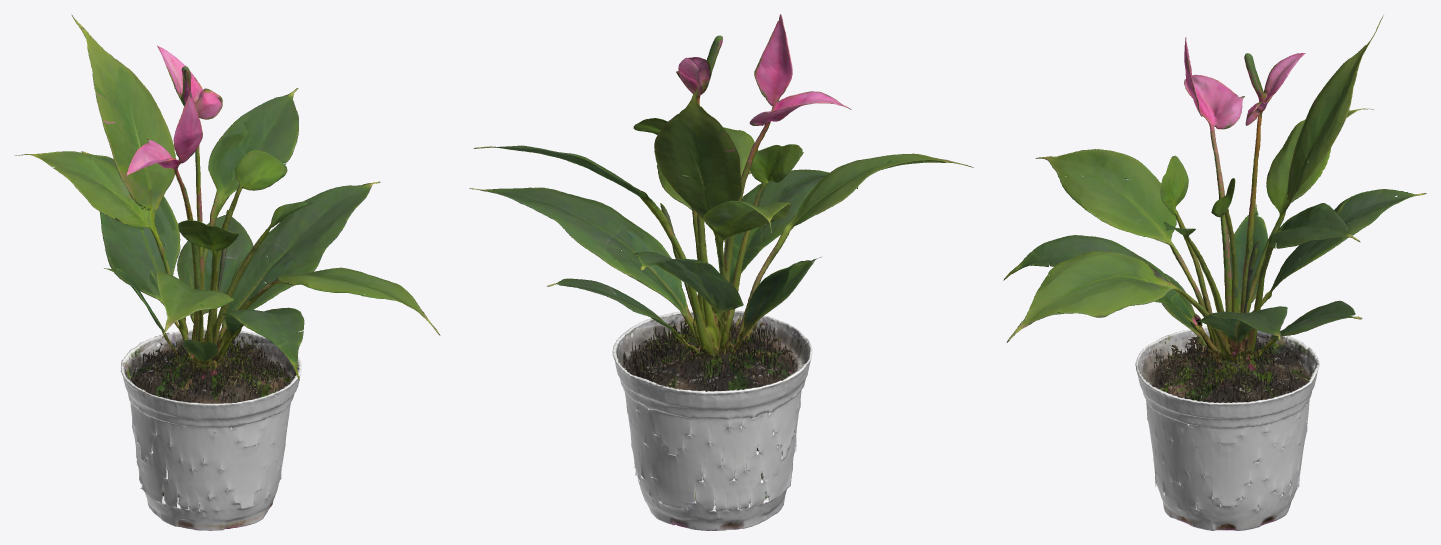
Rendered from AnthuriumLilli3dModel.glb.
3 views of the same model, side by side, from view 1: azimuth 30°, elevation 25°; view 2: azimuth 150°, elevation 25°; view 3: azimuth 270°, elevation 25° (orthographic). The views are drawn at different scales.
Size of the model in its own units: 1.54 by 1.96 by 1.64.
Materials: 1 (1 with a texture image).
